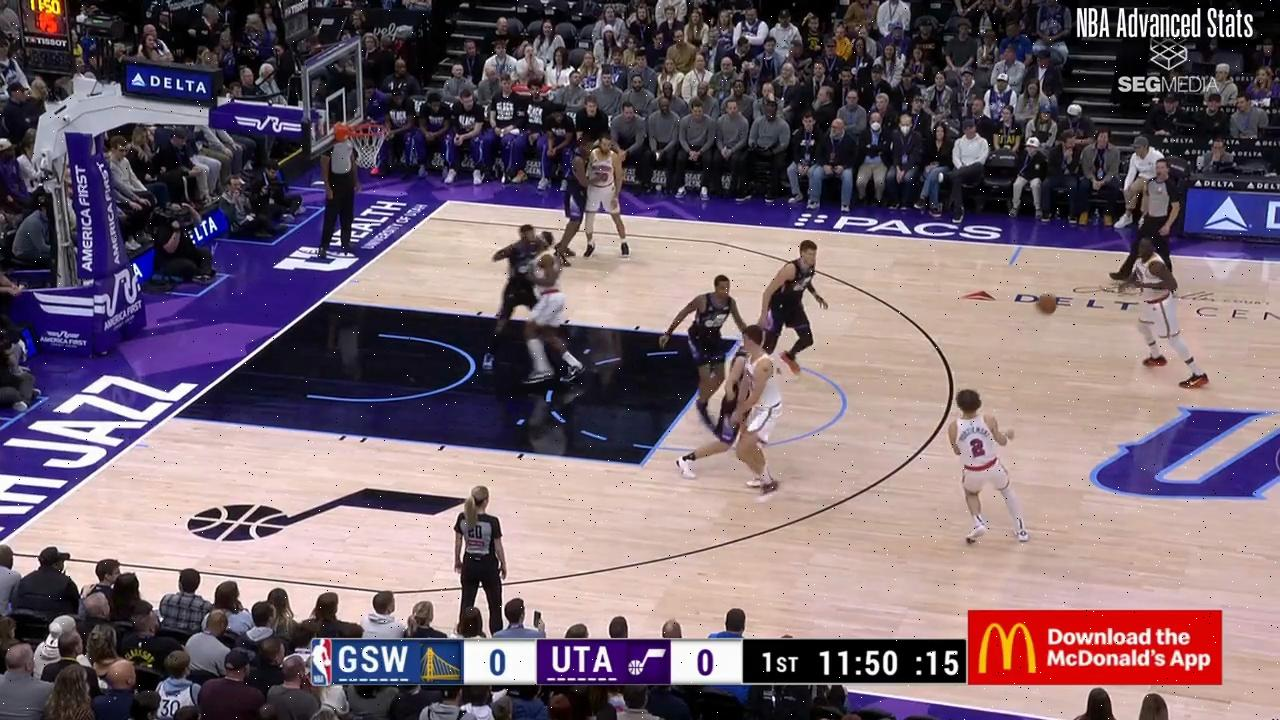basketball: (1035, 294, 1059, 316)
